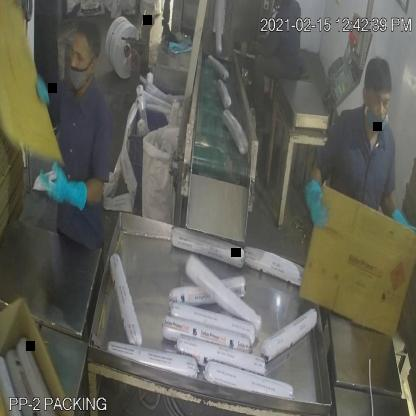glove: (34, 151, 92, 220), (301, 176, 337, 242)
no_glove: (245, 36, 282, 61)
